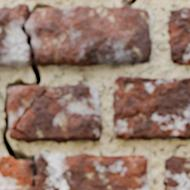brick: (8, 84, 101, 142), (113, 77, 189, 139), (168, 8, 189, 64), (163, 156, 189, 189)
broken_brick: (27, 3, 152, 67), (0, 152, 149, 189), (0, 2, 30, 67)
crack: (0, 2, 72, 187), (125, 0, 138, 6), (86, 6, 93, 9)
